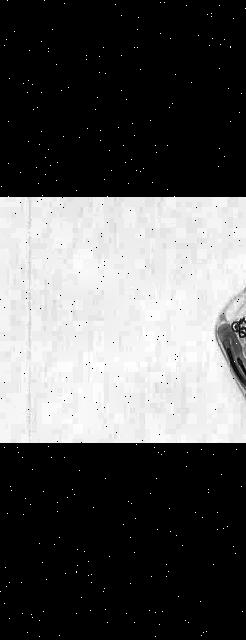Pliers: (218, 332, 246, 419)
